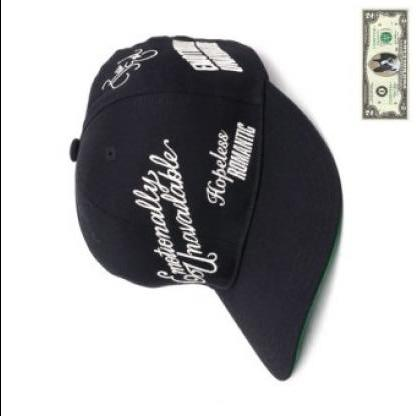cap: (64, 28, 348, 393)
